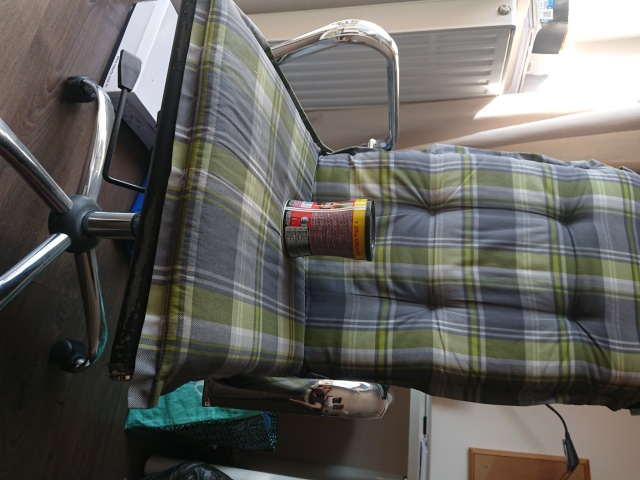Nescafe Classic 225g: (278, 195, 377, 263)
